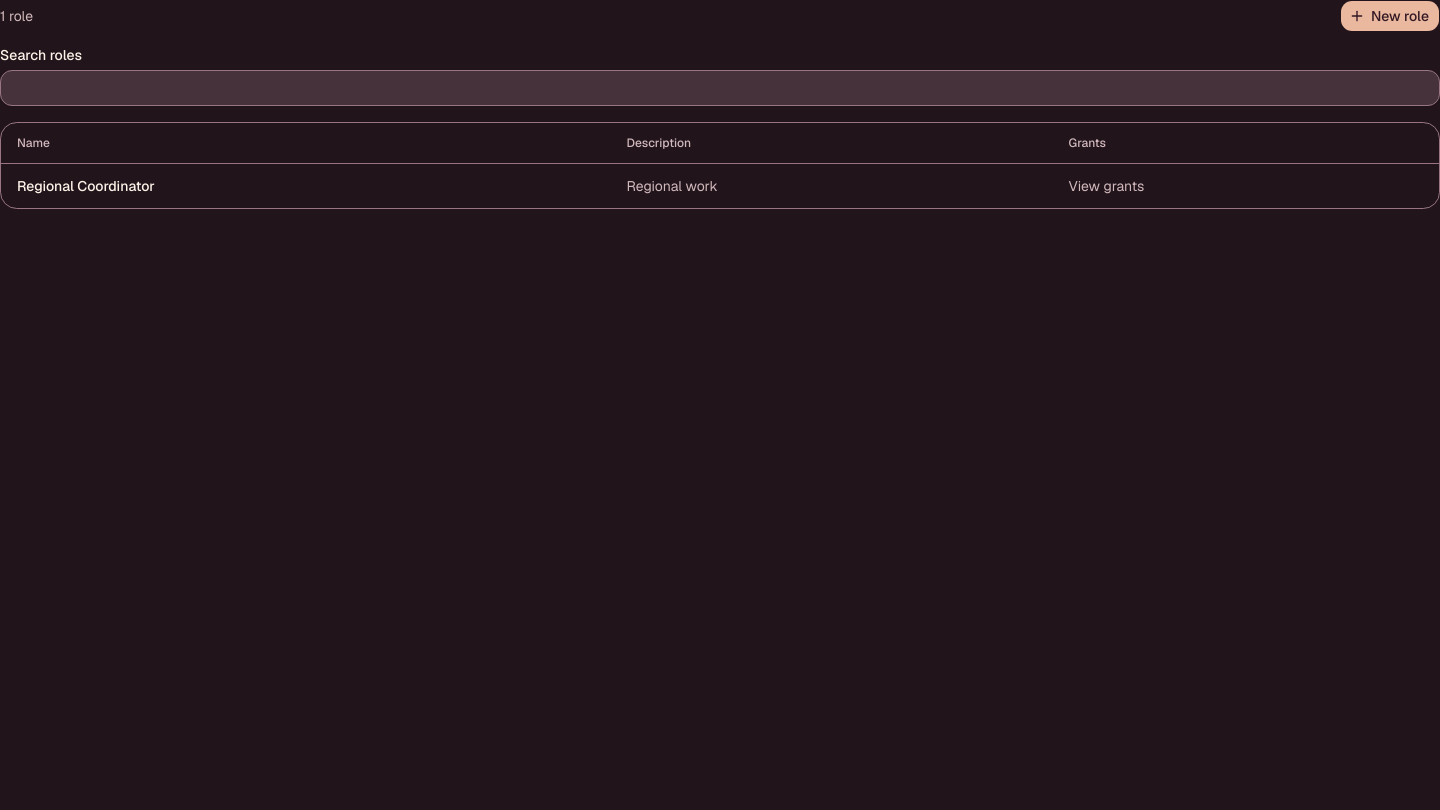
Test case: RolesManager API integration › creates a role and reloads the list from the API
This screenshot has width=1440, height=810.
Expected: the text "1 role" is shown, [0, 6, 33, 26]
Click the button "New role" at (1390,16), box [1340, 0, 1439, 32]
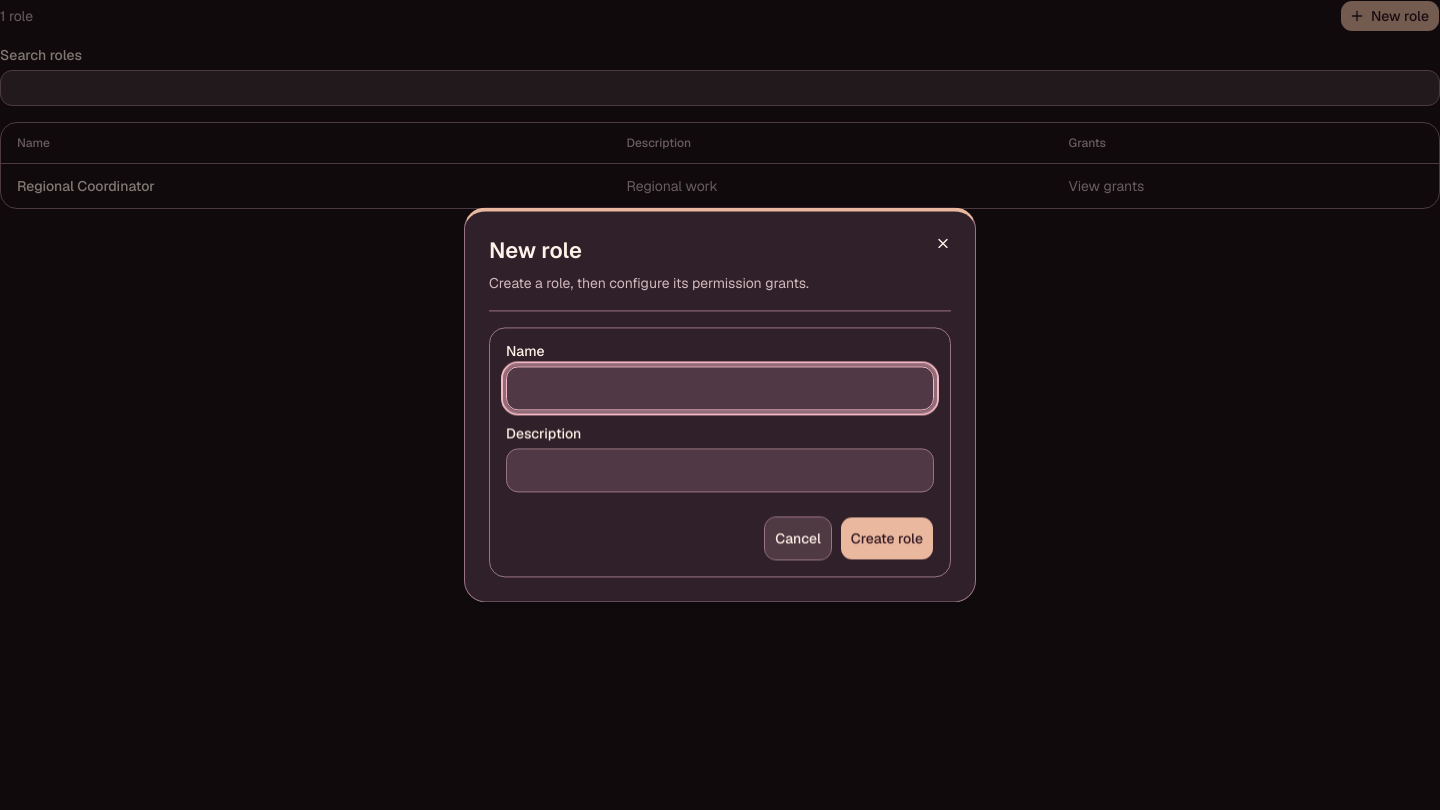
Type "New Role" into the field labelled "Name" at (720,389), box [506, 367, 934, 411]
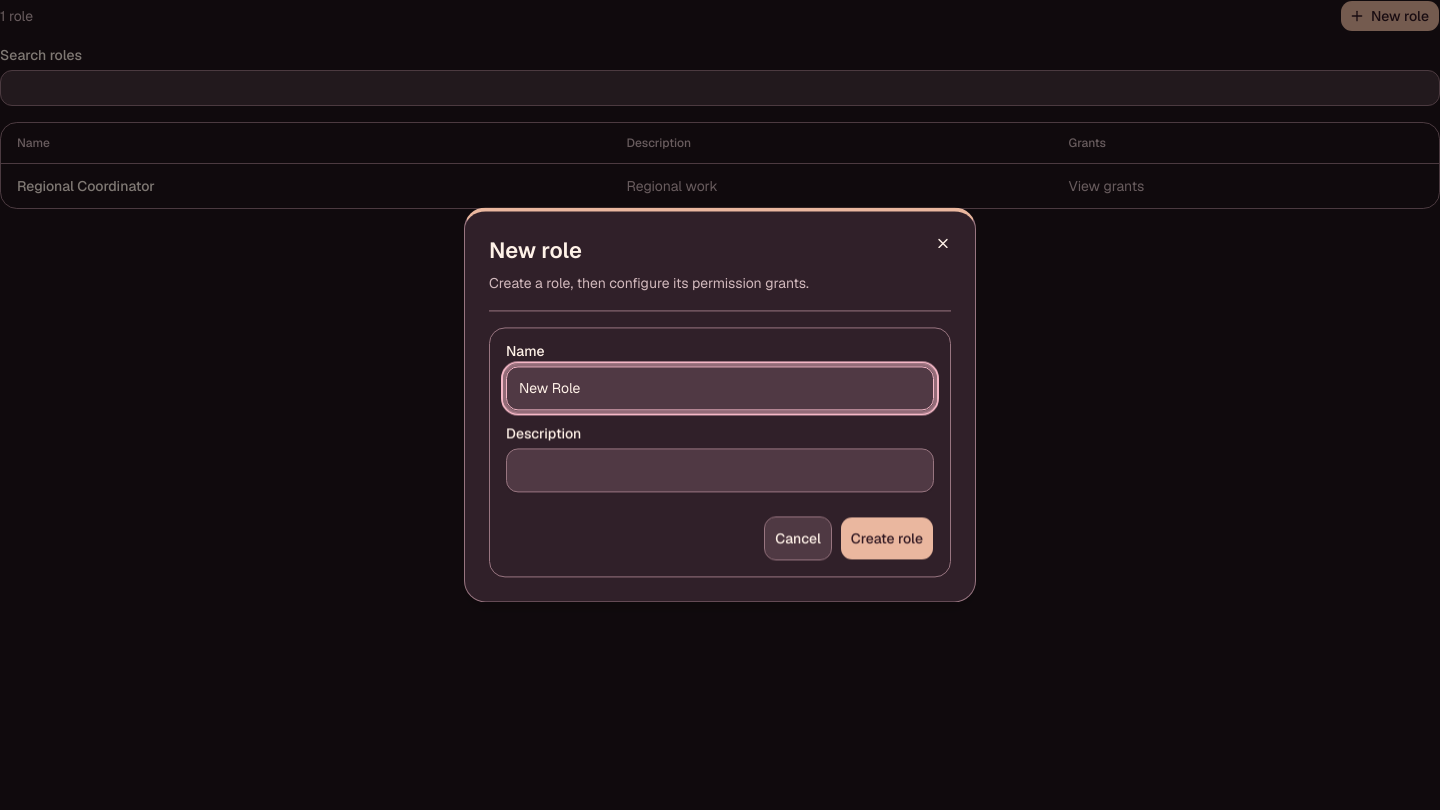
Click the button "Create role" at (887,539), box [840, 517, 934, 561]
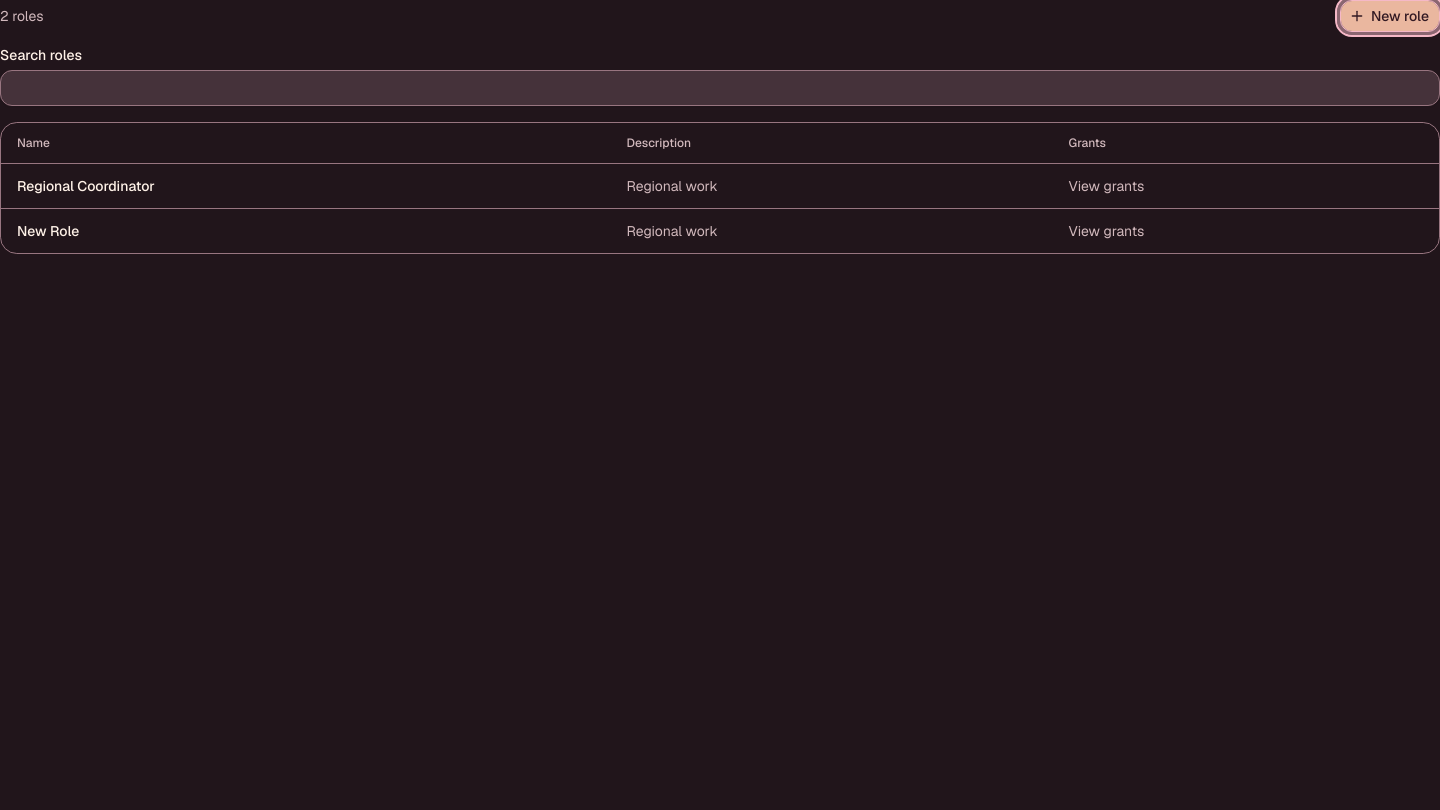
Expected: the text "2 roles" is shown, [0, 6, 44, 26]
